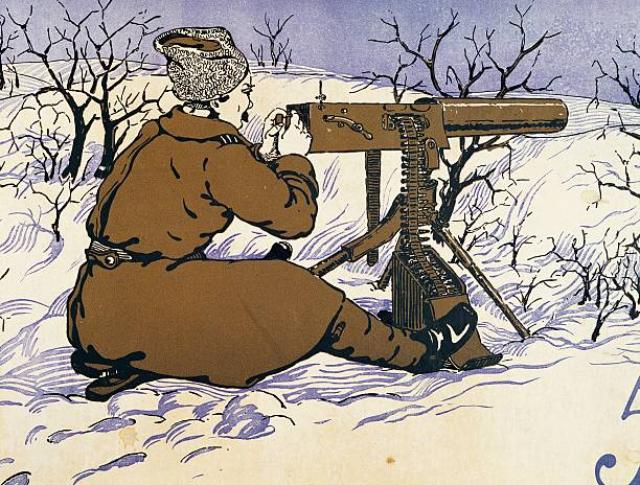other: (63, 35, 324, 382)
